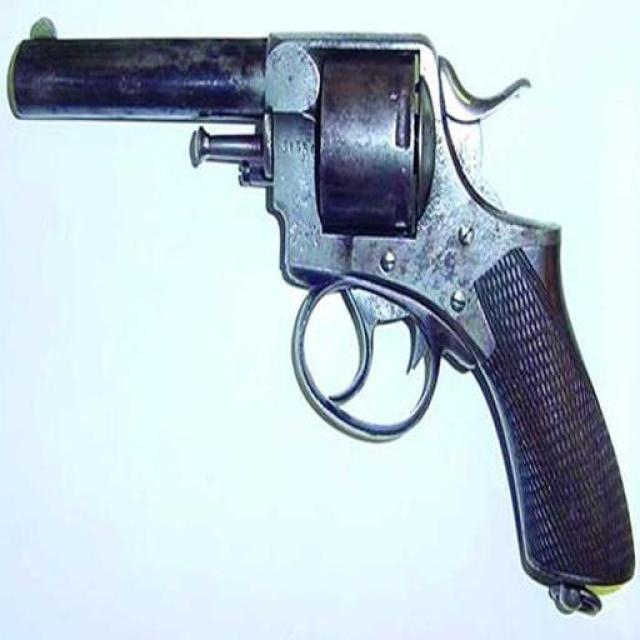pistol: (10, 20, 634, 619)
